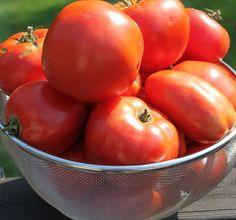healthy-tomato: (42, 6, 145, 103), (84, 97, 187, 167), (112, 1, 191, 89), (1, 81, 90, 157), (146, 71, 235, 145), (1, 28, 50, 96), (173, 61, 236, 112), (178, 8, 232, 66)
